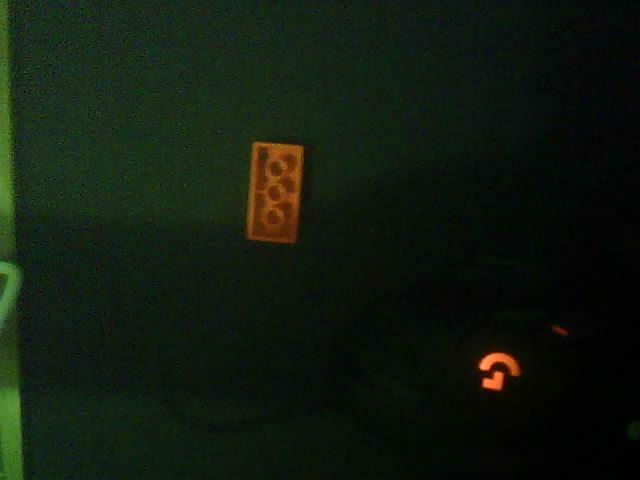lego: (245, 140, 305, 245)
